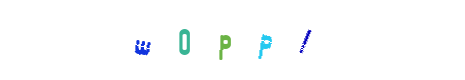0: (162, 0, 242, 80)
1: (225, 0, 305, 80)
P: (175, 0, 255, 80), (192, 0, 272, 80)
W: (160, 0, 240, 80)
